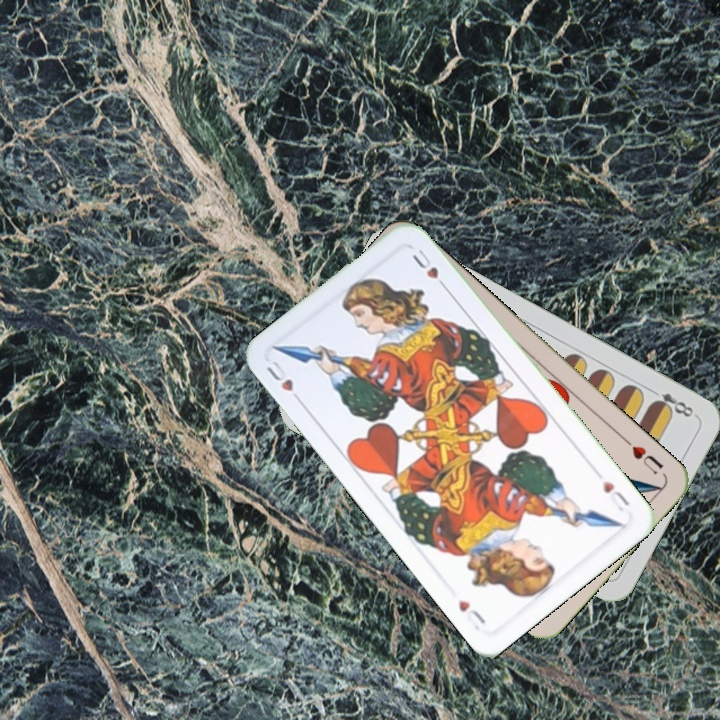E8: (645, 384, 696, 420)
HU: (262, 356, 306, 407), (619, 434, 666, 477), (598, 476, 633, 514)
